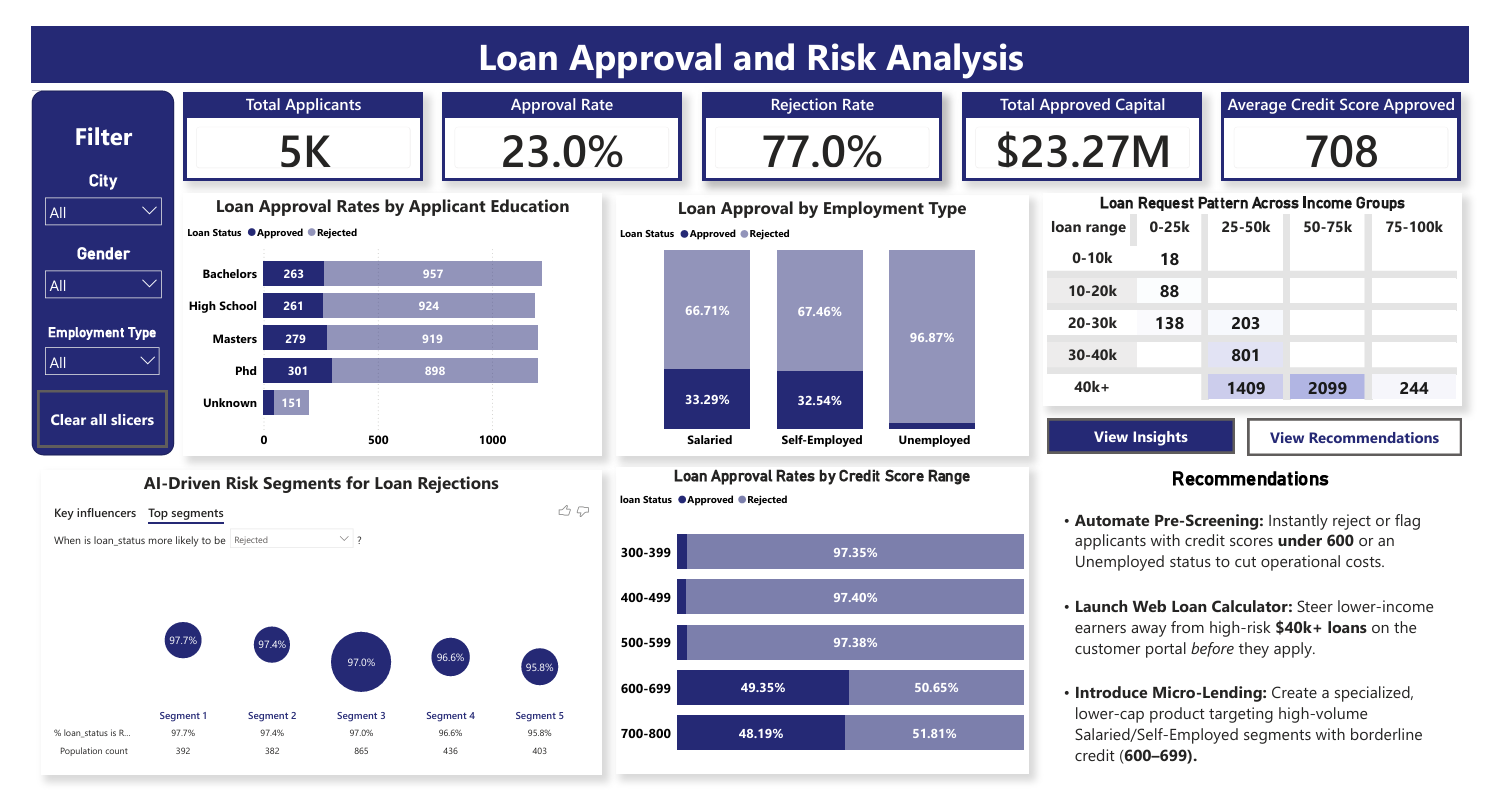

This screenshot's page, from the dashboard's own definition file:
{"tool":"powerbi","page":{"name":"Page 1","canvas":[1920,1010],"ordinal":0},"visuals":[{"type":"hundredPercentStackedColumnChart","title":"Loan Approval by Employment Type","fields":{"Category":["public loan_risk_data_cleaned.employment_type"],"Series":["public loan_risk_data_cleaned.loan_status"],"Y":["public loan_risk_data_cleaned.Total Applicants"]},"box":[779.5,224.9,549.7,347.5],"z":0},{"type":"actionButton","title":"View insights","box":[1355.2,522.7,250.7,46.8],"z":0,"group":"g1"},{"type":"actionButton","title":"View Recommendations","box":[1622.9,524.4,283.3,47.3],"z":0,"group":"g2"},{"type":"textbox","title":"Insights","box":[1348.6,588.8,560.3,408.4],"z":0,"group":"g3"},{"type":"cardVisual","title":"Total Applicants","fields":{"Data":["public loan_risk_data_cleaned.Total Applicants"]},"box":[202.2,86.3,320.3,118.1],"z":1000},{"type":"actionButton","title":"View Insights Highlight","box":[1351.5,522.4,253.5,49],"z":1000,"group":"g1"},{"type":"textbox","box":[1348.6,626.8,558,77],"z":1000,"group":"g3"},{"type":"cardVisual","title":"Total Approved Capital","fields":{"Data":["public loan_risk_data_cleaned.Total Approved Capital"]},"box":[1241.3,86.3,320.3,118.1],"z":2000},{"type":"textbox","box":[1348.6,713.7,558,66.5],"z":2000,"group":"g3"},{"type":"cardVisual","title":"Approval Rate","fields":{"Data":["public loan_risk_data_cleaned.Approval rate"]},"box":[548.5,86.3,320.3,118.1],"z":3000},{"type":"textbox","box":[1348.6,790.2,558,99.7],"z":3000,"group":"g3"},{"type":"cardVisual","title":"Average Credit Score Approved","fields":{"Data":["public loan_risk_data_cleaned.Avg Credit Score Approved"]},"box":[1587.7,86.3,320.3,118.1],"z":4000},{"type":"textbox","box":[1348.6,899.8,558,97.3],"z":4000,"group":"g3"},{"type":"textbox","box":[0,0,1908.9,76],"z":5000},{"type":"keyDriversVisual","title":"AI-Driven Risk Segments for Loan Rejections","fields":{"ExplainBy":["public loan_risk_data_cleaned.education","Sum(public loan_risk_data_cleaned.yearsexperience)","Sum(public loan_risk_data_cleaned.income)","public loan_risk_data_cleaned.employment_type"],"Target":["public loan_risk_data_cleaned.loan_status"]},"box":[11.9,593.6,747.9,406],"z":6000,"group":"g5"},{"type":"barChart","title":"Loan Approval Rates by Applicant Education","fields":{"Category":["public loan_risk_data_cleaned.education"],"Series":["public loan_risk_data_cleaned.loan_approved"],"Y":["public loan_risk_data_cleaned.Total Applicants"]},"box":[202.2,222.6,558,349.8],"z":7000},{"type":"shape","box":[0,85.5,189.9,486.7],"z":8000},{"type":"slicer","title":"Gender","fields":{"Values":["public loan_risk_data_cleaned.gender"]},"box":[6.8,291.2,175.7,85.5],"z":9000},{"type":"slicer","title":"Employment Type","fields":{"Values":["public loan_risk_data_cleaned.employment_type"]},"box":[8,396.5,173.3,76],"z":10000},{"type":"slicer","title":"City","fields":{"Values":["public loan_risk_data_cleaned.city"]},"box":[6.8,193.1,175.7,78.4],"z":11000},{"type":"cardVisual","title":"Rejection Rate","fields":{"Data":["public loan_risk_data_cleaned.Rejection Rate"]},"box":[894.9,86.3,320.3,118.1],"z":12000},{"type":"textbox","box":[9.2,116.3,171,57],"z":13000},{"type":"actionButton","title":"Clear all slicers","box":[7.1,484.4,173.3,76],"z":14000},{"type":"hundredPercentStackedBarChart","title":"Loan Approval Rates by Credit Score Range","fields":{"Category":["public loan_risk_data_cleaned.Credit Score Band"],"Series":["public loan_risk_data_cleaned.loan_status"],"Y":["public loan_risk_data_cleaned.Total Applicants"]},"box":[779.5,588.3,549.7,408.9],"z":15000},{"type":"pivotTable","title":"Loan Request Pattern Across Income Groups","fields":{"Rows":["public loan_risk_data_cleaned.loan range"],"Columns":["public loan_risk_data_cleaned.income range"],"Values":["public loan_risk_data_cleaned.Total Applicants"]},"box":[1349.2,222.6,558.8,283.9],"z":16000},{"type":"group","id":"g1","title":"Insights Group ","box":[1351.5,522.4,254.4,49],"z":17000},{"type":"group","id":"g2","title":"Recommend Group ","box":[1621.8,522.4,286.2,50],"z":18000},{"type":"group","id":"g3","title":"Group 1","box":[1348.6,588.8,560.3,408.4],"z":19000},{"type":"group","id":"g4","title":"Group 2","box":[1350.2,588.2,558.7,410.3],"z":20000},{"type":"shape","box":[11.4,731.4,747.3,31.8],"z":21000,"group":"g5"},{"type":"group","id":"g5","title":"Group 3","box":[11.4,593.6,748.4,406],"z":21001}]}

Visuals, with their boxes in screenshot pixels (x1, y1, x2, y2), scaled from the page's 1920x1010 canvas onto the 1499x802 screenshot:
"Loan Approval by Employment Type" hundredPercentStackedColumnChart: {"left": 609, "top": 179, "right": 1038, "bottom": 455}
"View insights" actionButton: {"left": 1058, "top": 415, "right": 1254, "bottom": 452}
"View Recommendations" actionButton: {"left": 1267, "top": 416, "right": 1488, "bottom": 454}
"Insights" textbox: {"left": 1053, "top": 468, "right": 1490, "bottom": 792}
"Total Applicants" cardVisual: {"left": 158, "top": 69, "right": 408, "bottom": 162}
"View Insights Highlight" actionButton: {"left": 1055, "top": 415, "right": 1253, "bottom": 454}
textbox: {"left": 1053, "top": 498, "right": 1489, "bottom": 559}
"Total Approved Capital" cardVisual: {"left": 969, "top": 69, "right": 1219, "bottom": 162}
textbox: {"left": 1053, "top": 567, "right": 1489, "bottom": 620}
"Approval Rate" cardVisual: {"left": 428, "top": 69, "right": 678, "bottom": 162}
textbox: {"left": 1053, "top": 627, "right": 1489, "bottom": 707}
"Average Credit Score Approved" cardVisual: {"left": 1240, "top": 69, "right": 1490, "bottom": 162}
textbox: {"left": 1053, "top": 714, "right": 1489, "bottom": 792}
textbox: {"left": 0, "top": 0, "right": 1490, "bottom": 60}
"AI-Driven Risk Segments for Loan Rejections" keyDriversVisual: {"left": 9, "top": 471, "right": 593, "bottom": 794}
"Loan Approval Rates by Applicant Education" barChart: {"left": 158, "top": 177, "right": 594, "bottom": 455}
shape: {"left": 0, "top": 68, "right": 148, "bottom": 454}
"Gender" slicer: {"left": 5, "top": 231, "right": 142, "bottom": 299}
"Employment Type" slicer: {"left": 6, "top": 315, "right": 142, "bottom": 375}
"City" slicer: {"left": 5, "top": 153, "right": 142, "bottom": 216}
"Rejection Rate" cardVisual: {"left": 699, "top": 69, "right": 949, "bottom": 162}
textbox: {"left": 7, "top": 92, "right": 141, "bottom": 138}
"Clear all slicers" actionButton: {"left": 6, "top": 385, "right": 141, "bottom": 445}
"Loan Approval Rates by Credit Score Range" hundredPercentStackedBarChart: {"left": 609, "top": 467, "right": 1038, "bottom": 792}
"Loan Request Pattern Across Income Groups" pivotTable: {"left": 1053, "top": 177, "right": 1490, "bottom": 402}
"Insights Group " group: {"left": 1055, "top": 415, "right": 1254, "bottom": 454}
"Recommend Group " group: {"left": 1266, "top": 415, "right": 1490, "bottom": 455}
"Group 1" group: {"left": 1053, "top": 468, "right": 1490, "bottom": 792}
"Group 2" group: {"left": 1054, "top": 467, "right": 1490, "bottom": 793}
shape: {"left": 9, "top": 581, "right": 592, "bottom": 606}
"Group 3" group: {"left": 9, "top": 471, "right": 593, "bottom": 794}
